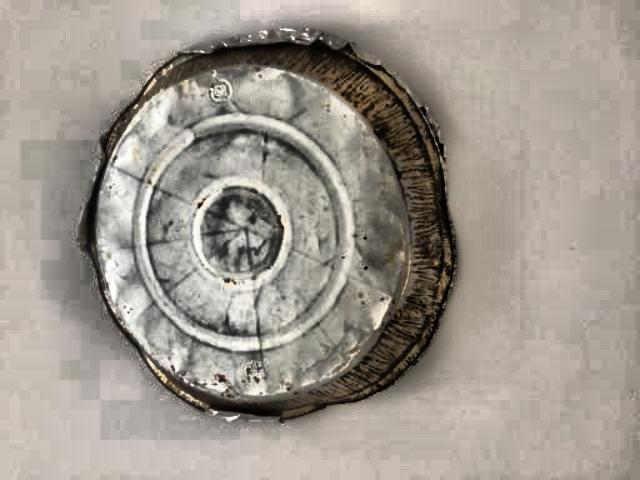Almennt: (47, 12, 463, 438)
